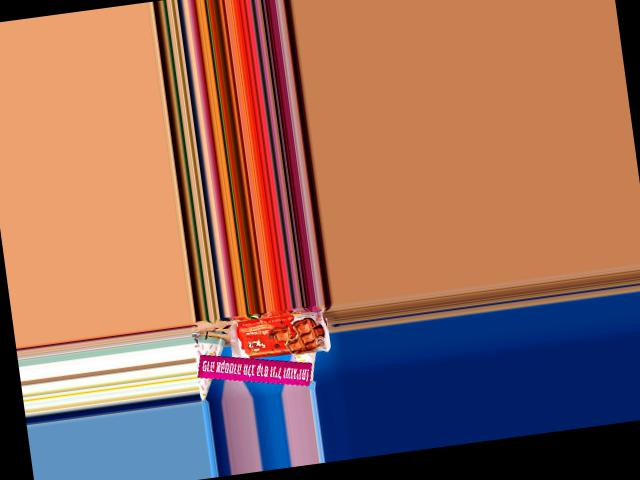chocolate: (225, 307, 334, 365)
